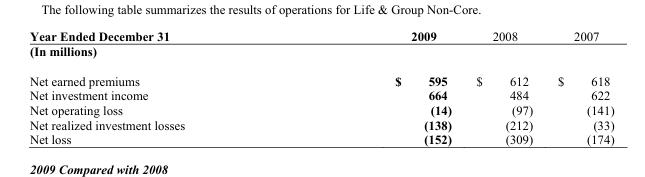table: (28, 28, 613, 146)
table column: (28, 28, 289, 146), (289, 28, 463, 146), (463, 28, 544, 146), (544, 28, 613, 146)
table column header: (28, 28, 613, 43)
table projected row header: (28, 43, 613, 65)
table row: (28, 43, 613, 65), (28, 65, 613, 87), (28, 28, 613, 43), (28, 87, 613, 102), (28, 102, 613, 117), (28, 131, 613, 146), (28, 117, 613, 131)
